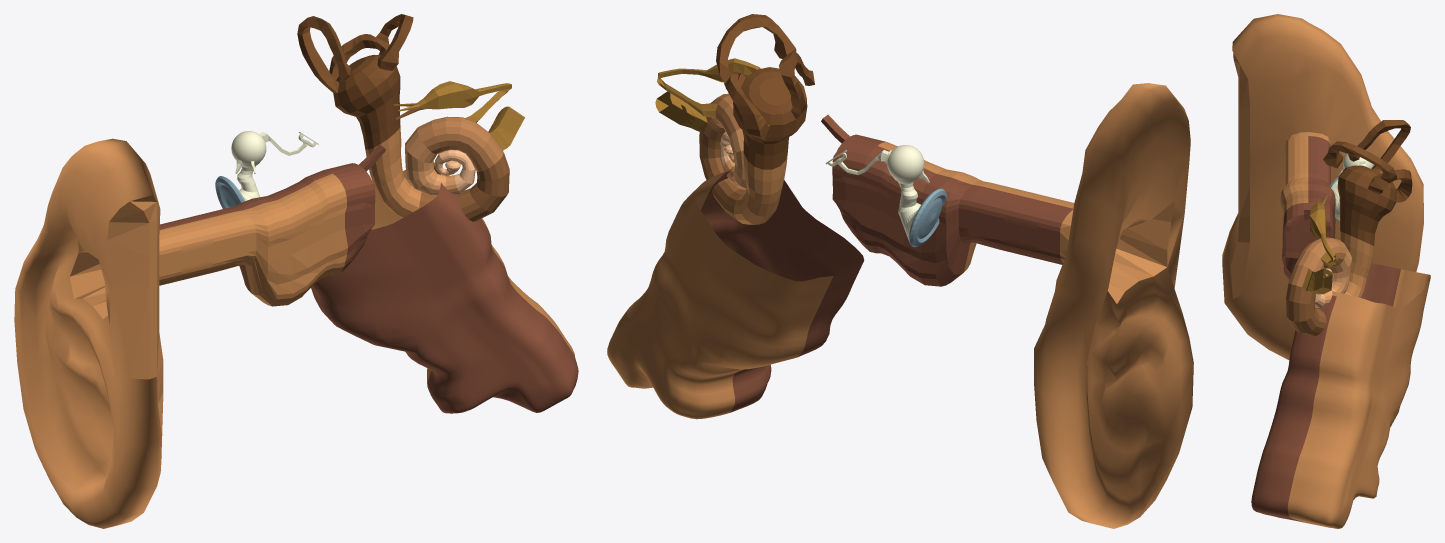
File: Ear Model final.FBX
3 renders of one model, left to right at view 1: azimuth 30°, elevation 25°; view 2: azimuth 150°, elevation 25°; view 3: azimuth 270°, elevation 25°, orthographic. The views are drawn at different scales.
Visible parts, largest first — view 1: Drum cover002, Nerve cover001, 4, Drum; view 2: Drum cover002, Nerve cover001, 4, Drum; view 3: Drum cover002, Nerve cover001, 4, Drum.
Boxes of the visible parts, x1=… form: Drum cover002: x1=14, y1=138, x2=385, y2=528; Nerve cover001: x1=311, y1=162, x2=578, y2=413; 4: x1=297, y1=14, x2=524, y2=221; Drum: x1=215, y1=131, x2=318, y2=208; Drum cover002: x1=821, y1=83, x2=1193, y2=528; Nerve cover001: x1=607, y1=169, x2=864, y2=419; 4: x1=655, y1=14, x2=814, y2=224; Drum: x1=825, y1=145, x2=946, y2=247; Drum cover002: x1=1222, y1=14, x2=1423, y2=359; Nerve cover001: x1=1251, y1=263, x2=1430, y2=528; 4: x1=1286, y1=120, x2=1412, y2=336; Drum: x1=1330, y1=153, x2=1373, y2=221.
Size of the model in its own units: 1486876 by 1153710 by 606528.
10 materials, 10 textured.
